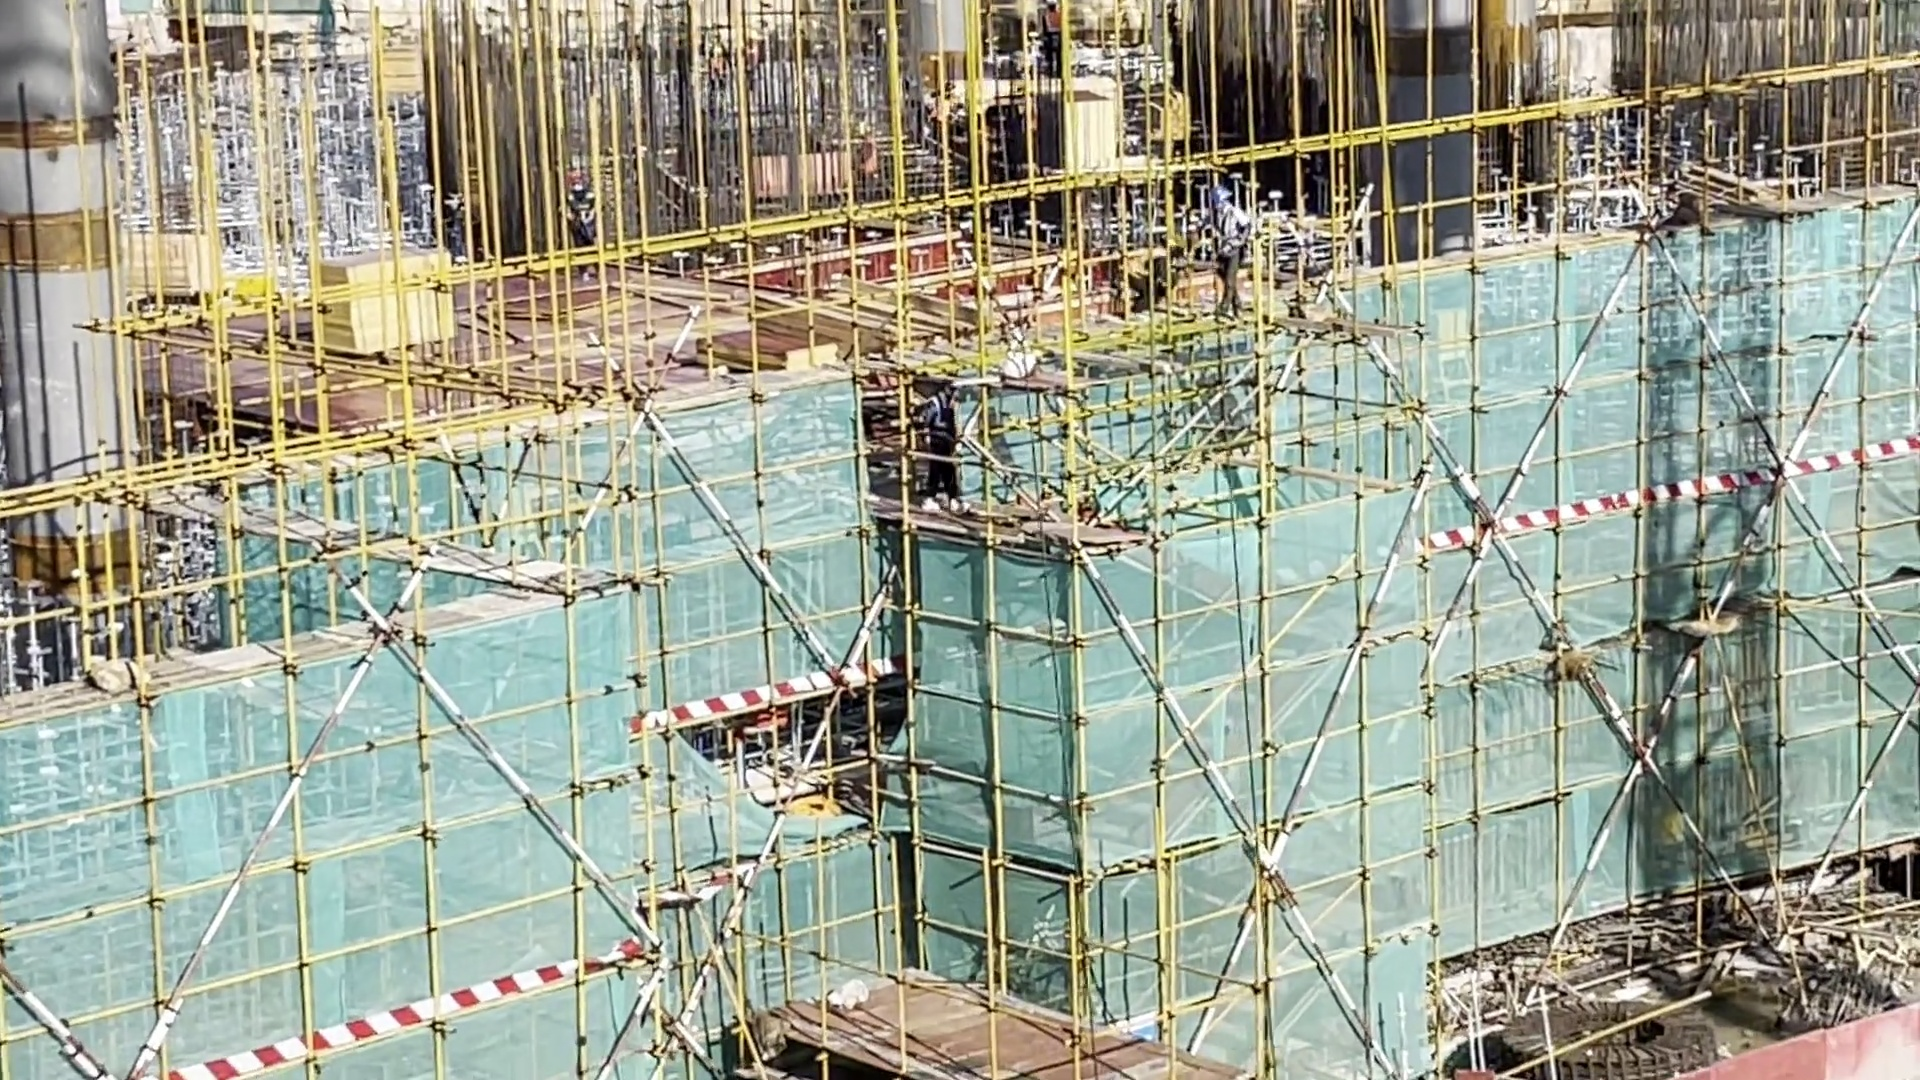helmet: (568, 167, 600, 199), (1209, 178, 1233, 205)
person: (1190, 180, 1258, 328), (564, 169, 603, 278), (1121, 229, 1174, 308)
vest: (1211, 209, 1246, 263), (570, 202, 602, 227)
